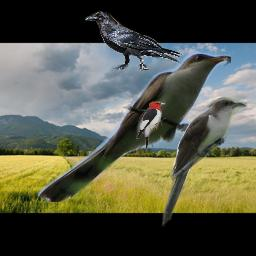Crow: (85, 11, 186, 73)
Cuckoo: (38, 50, 231, 202), (158, 96, 247, 229)
Woodpecker: (136, 101, 166, 150)
